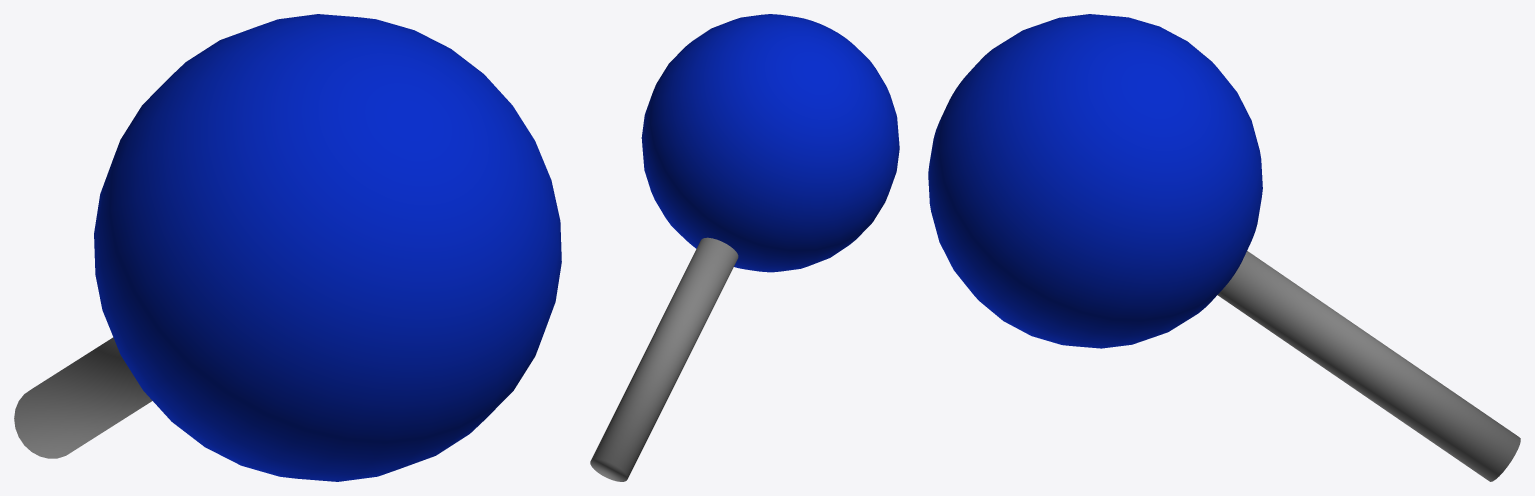
Rendered from tele_setting_lever.fbx.
3 renders of one model, left to right at view 1: azimuth 30°, elevation 25°; view 2: azimuth 150°, elevation 25°; view 3: azimuth 270°, elevation 25°, orthographic. The views are drawn at different scales.
Parts seen in each view (by area): view 1: Music lever; view 2: Music lever; view 3: Music lever.
Boxes of the visible parts, left/top/right/bottom form: Music lever: left=14, top=14, right=561, bottom=481; Music lever: left=590, top=14, right=899, bottom=481; Music lever: left=928, top=14, right=1520, bottom=481.
Bounding box in the file's own units: 13.67 × 20.12 × 24.17.
